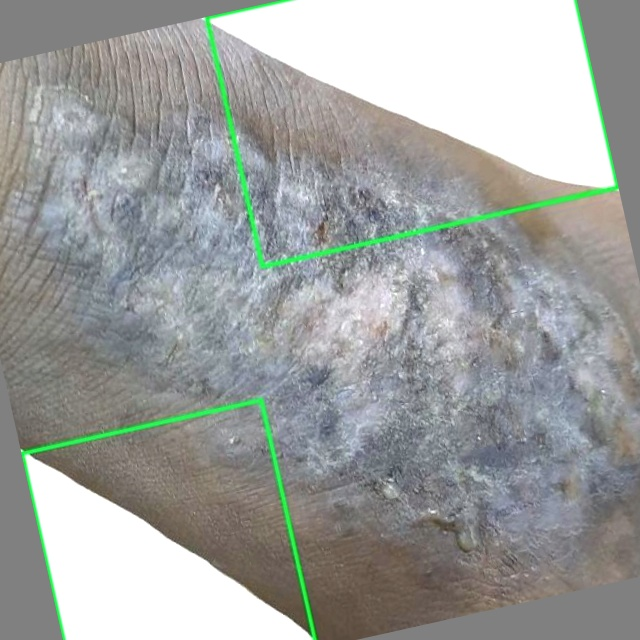Contact Dermatitis: (207, 0, 617, 266), (22, 400, 315, 639)
